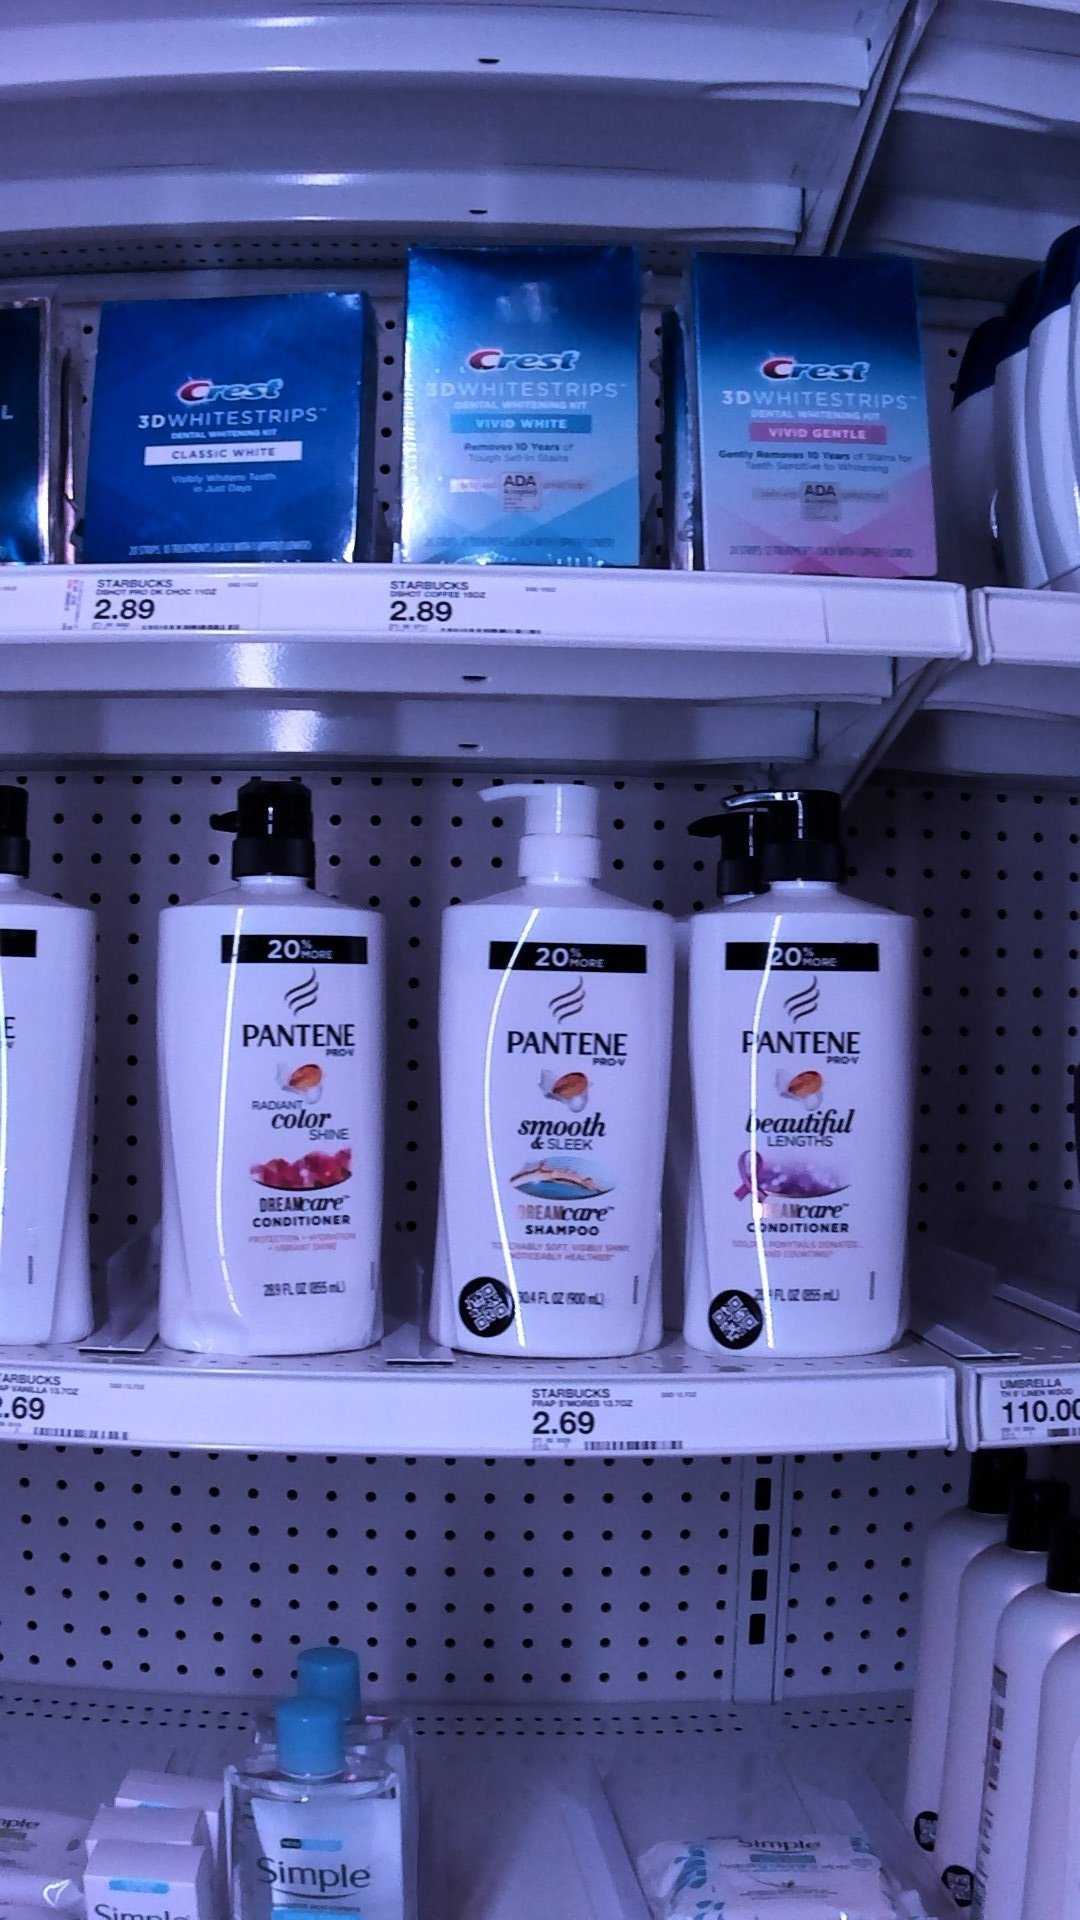ptag: (61, 560, 258, 640), (522, 1377, 704, 1462), (373, 564, 553, 646), (1, 1377, 158, 1445), (973, 1369, 1080, 1456)
